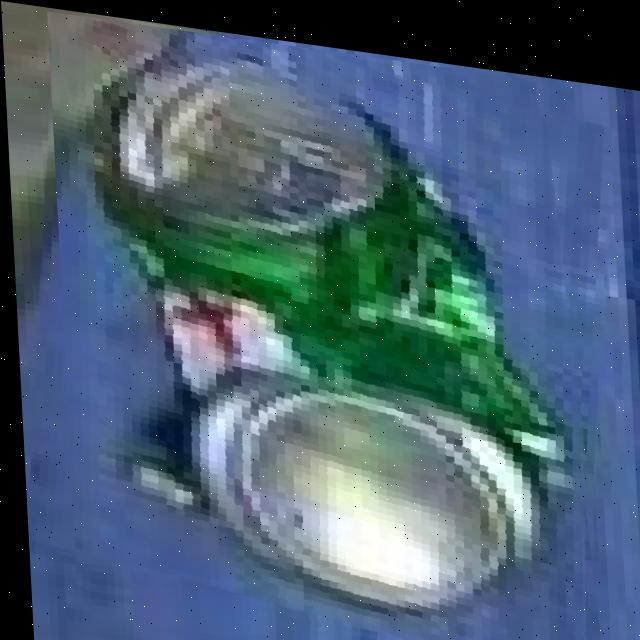can: (48, 28, 581, 637)
